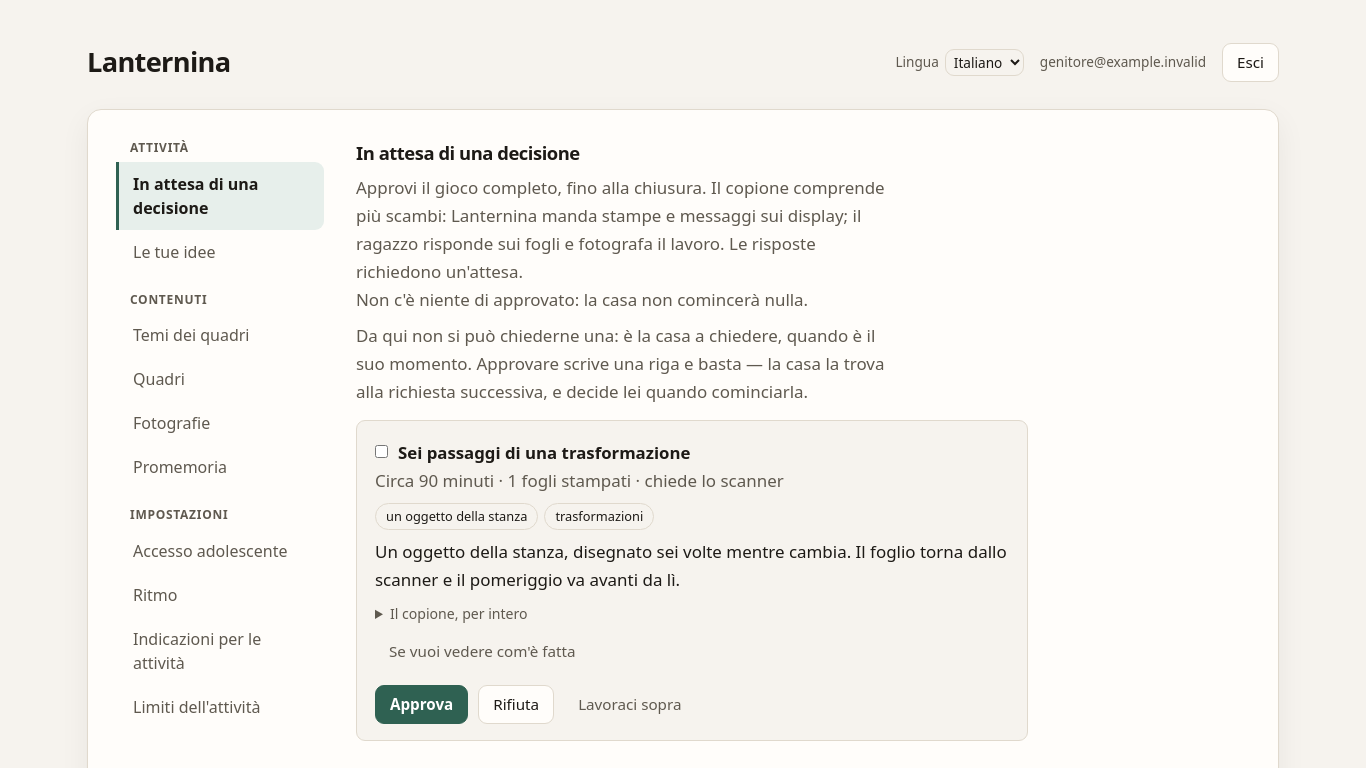
Test: coming back to the panel › says so plainly once it has tried twice
Step 1. Click the button "Ritmo" → (220, 595), box [116, 573, 324, 617]
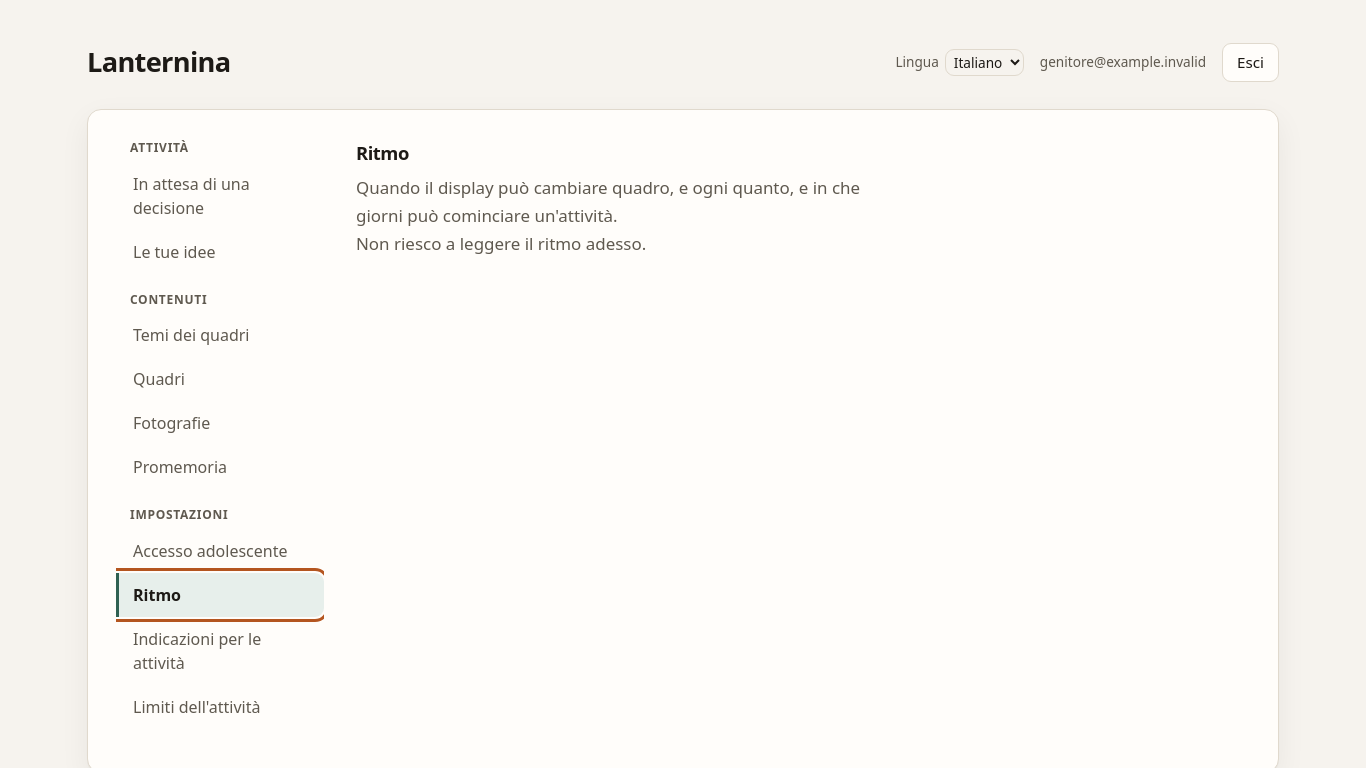
Expected: the text "Non riesco a leggere il ritmo adesso." is shown, [356, 232, 646, 255]
